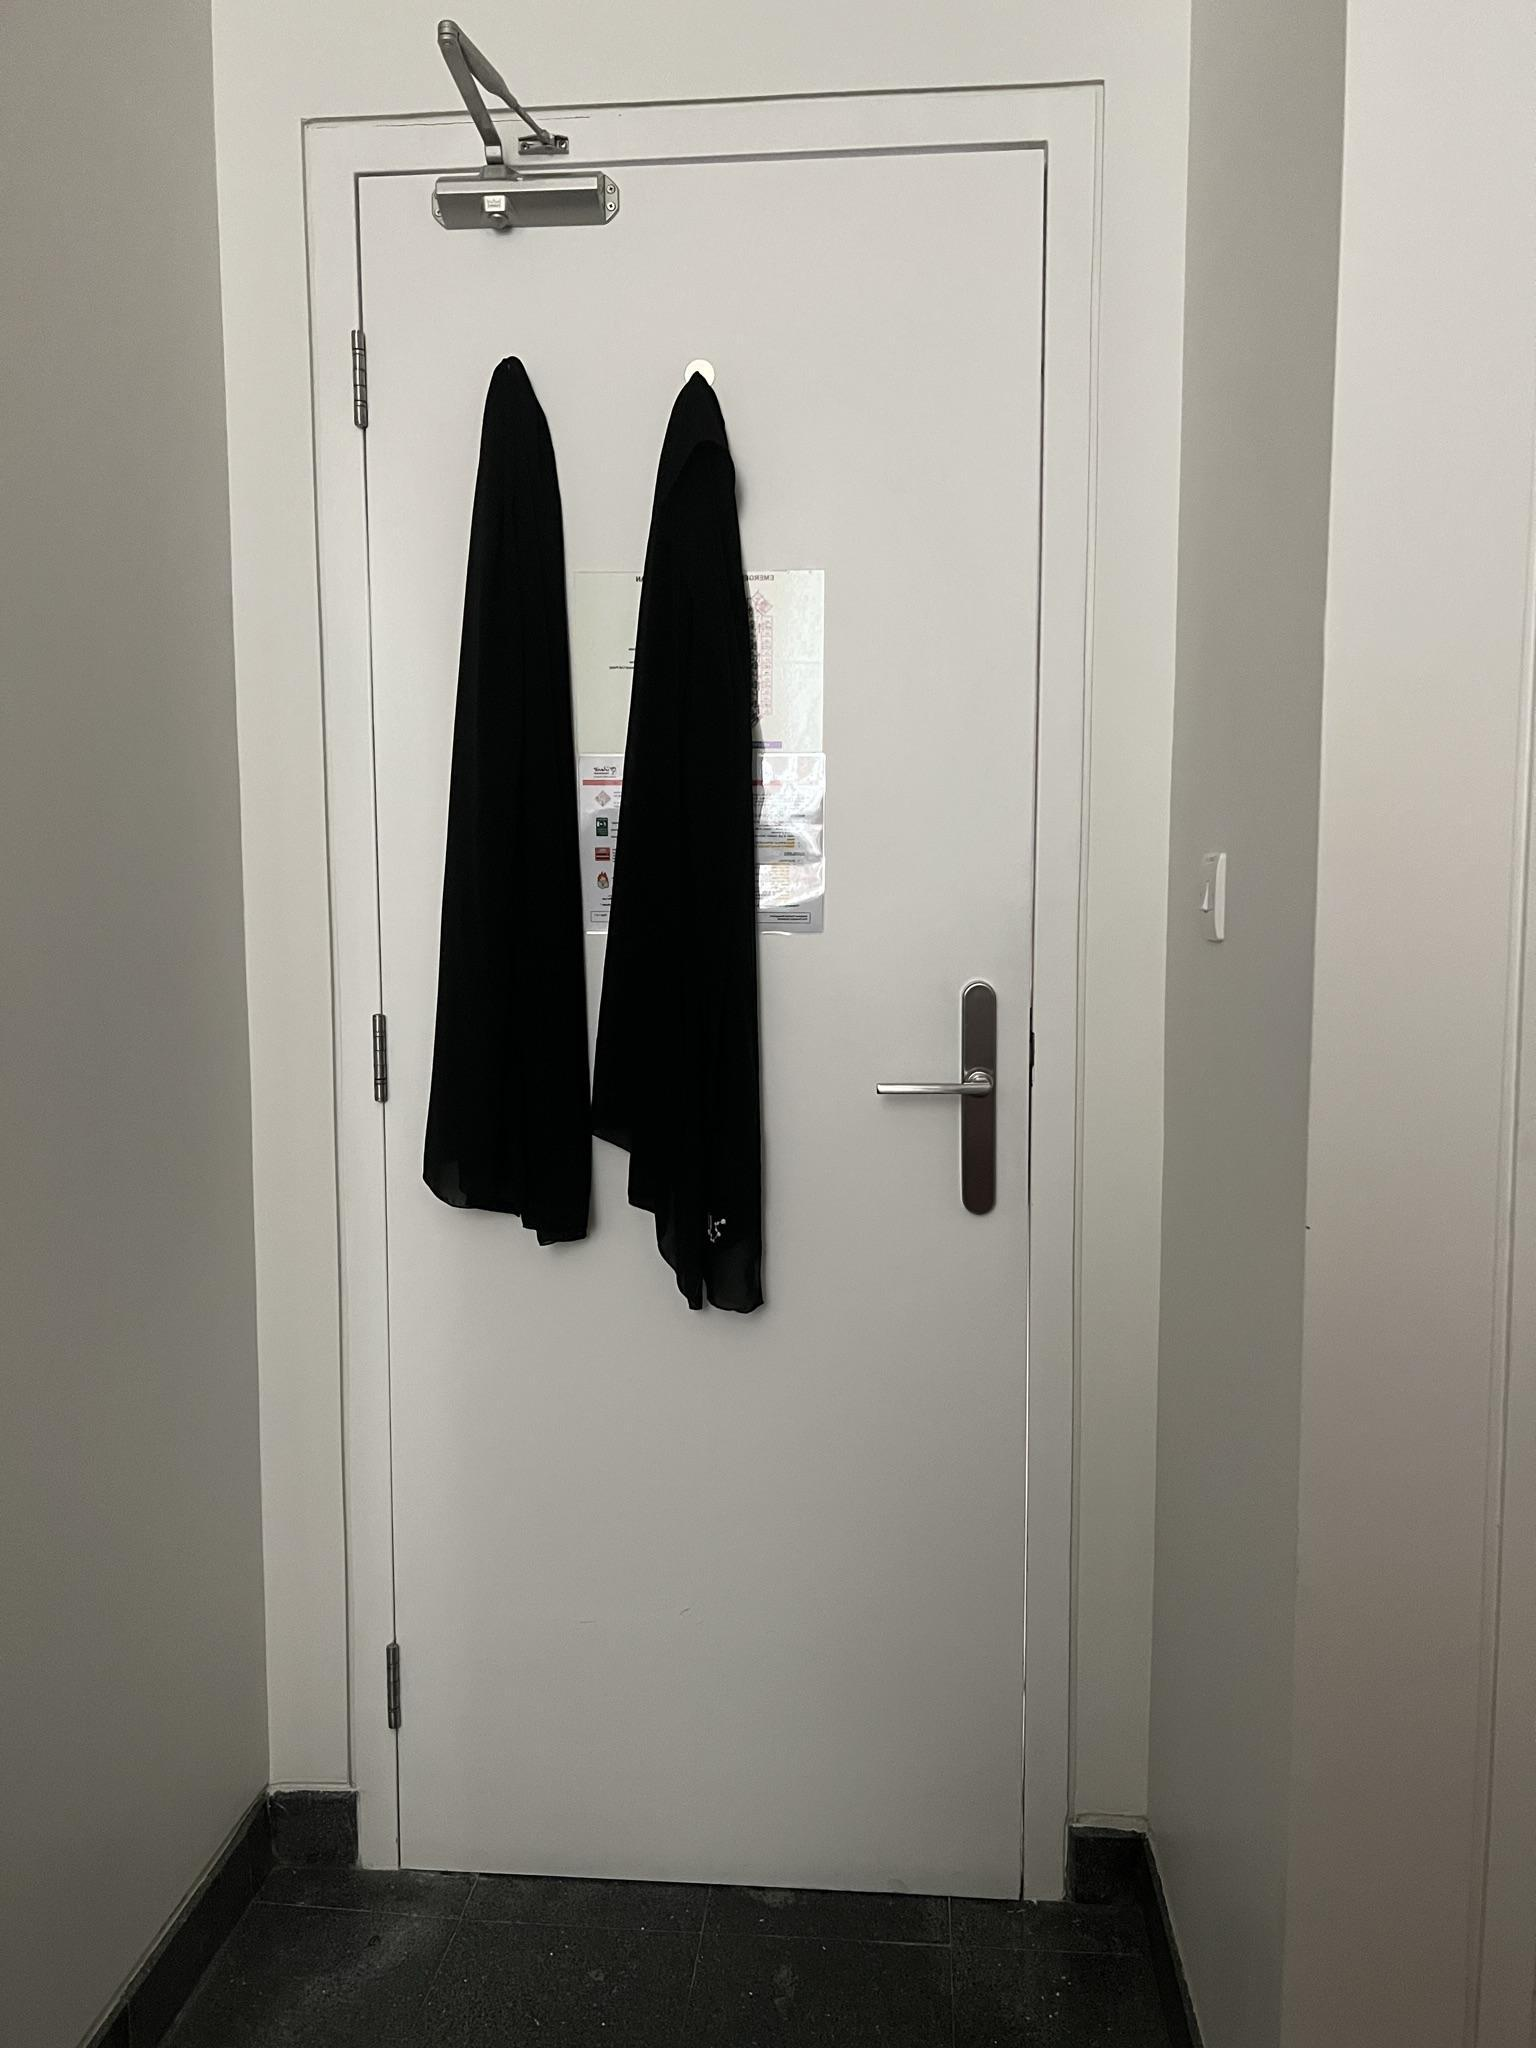door: (347, 126, 1039, 1863)
handle: (876, 976, 999, 1214)
